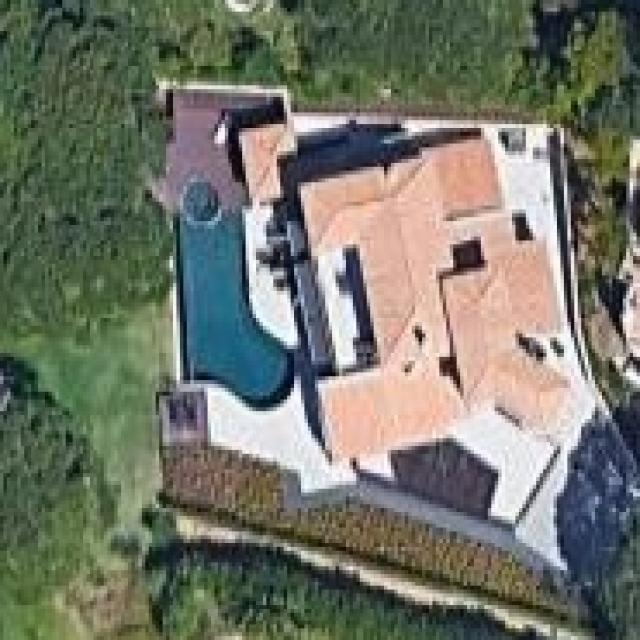swimming pool: (173, 175, 294, 407)
